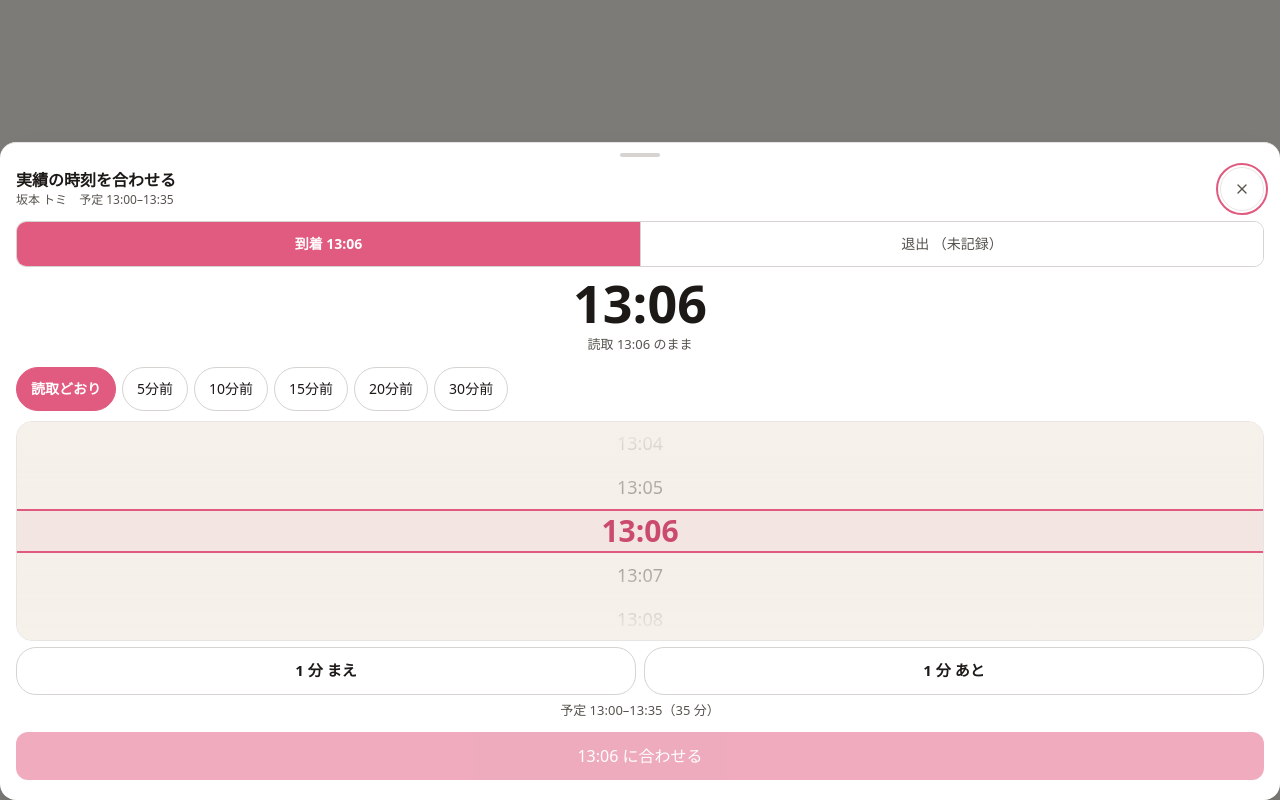
ActualTimeSheet — 到着 › ひと押しチップで飛び、読取時刻との差を出す
(page scrolled)
Expected: the button "読取どおり" is shown, [16, 366, 116, 410]
Expected: the button "5分前" is shown, [122, 366, 188, 410]
What coordinates should you click on to do the following:
click the button "10分前"
I would click on:
 (231, 388)
Its box is [194, 366, 268, 410].
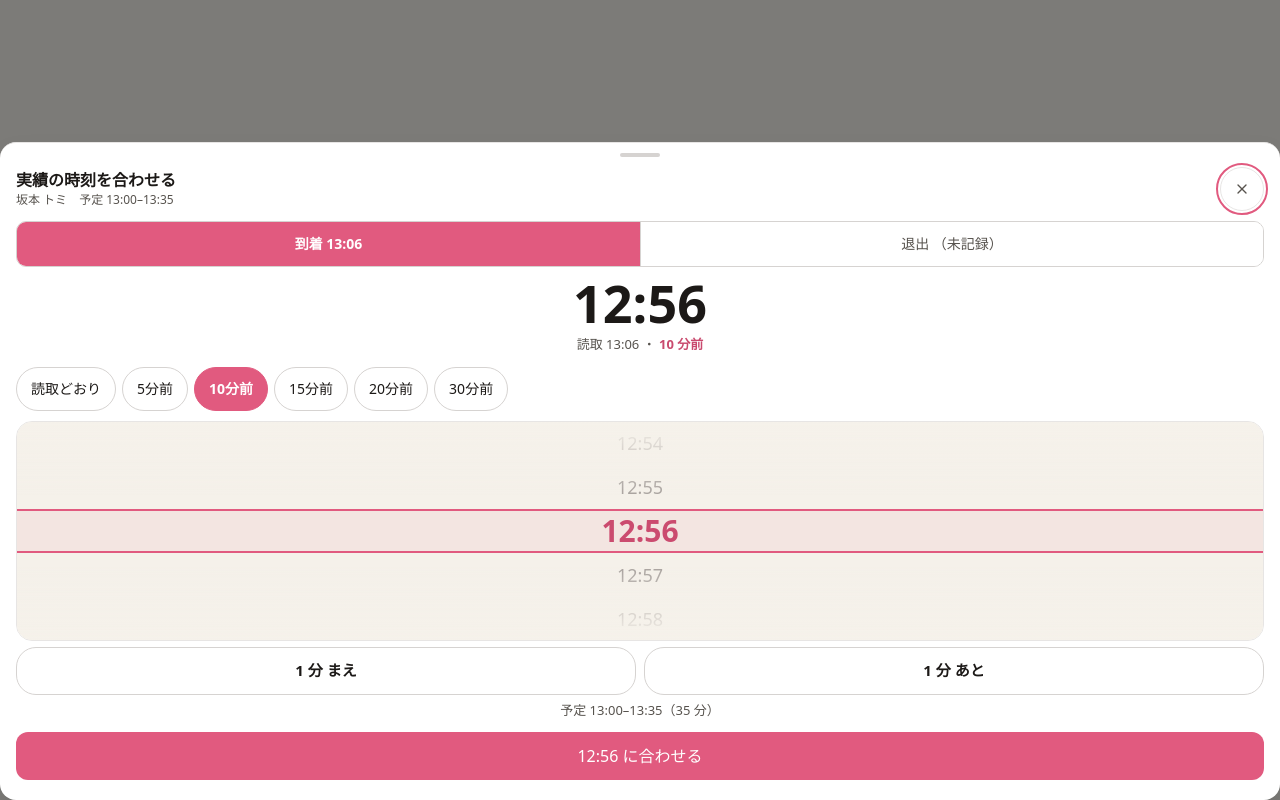
Now the element with test id "actual-time-sub" reads "読取 13:06 ・ 10 分前", box [577, 335, 703, 353]
Now the option "12:56" is shown, box [601, 510, 679, 551]
Now the button "12:56 に合わせる" is shown, box [16, 732, 1264, 780]
